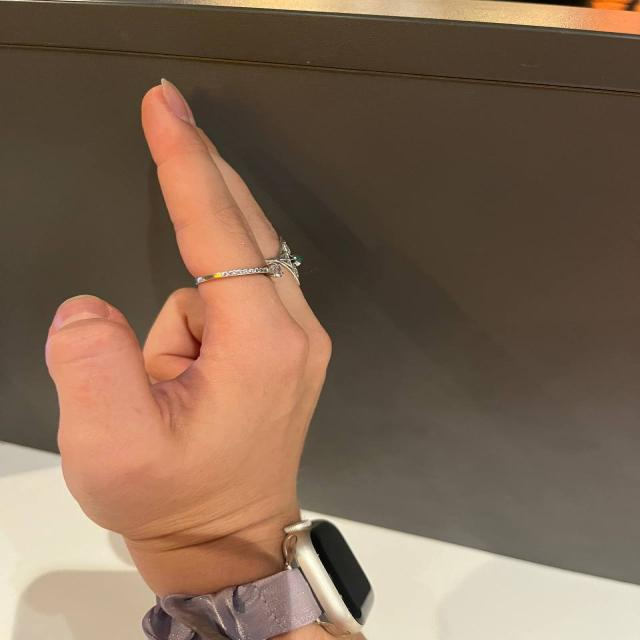d: (20, 86, 318, 526)
